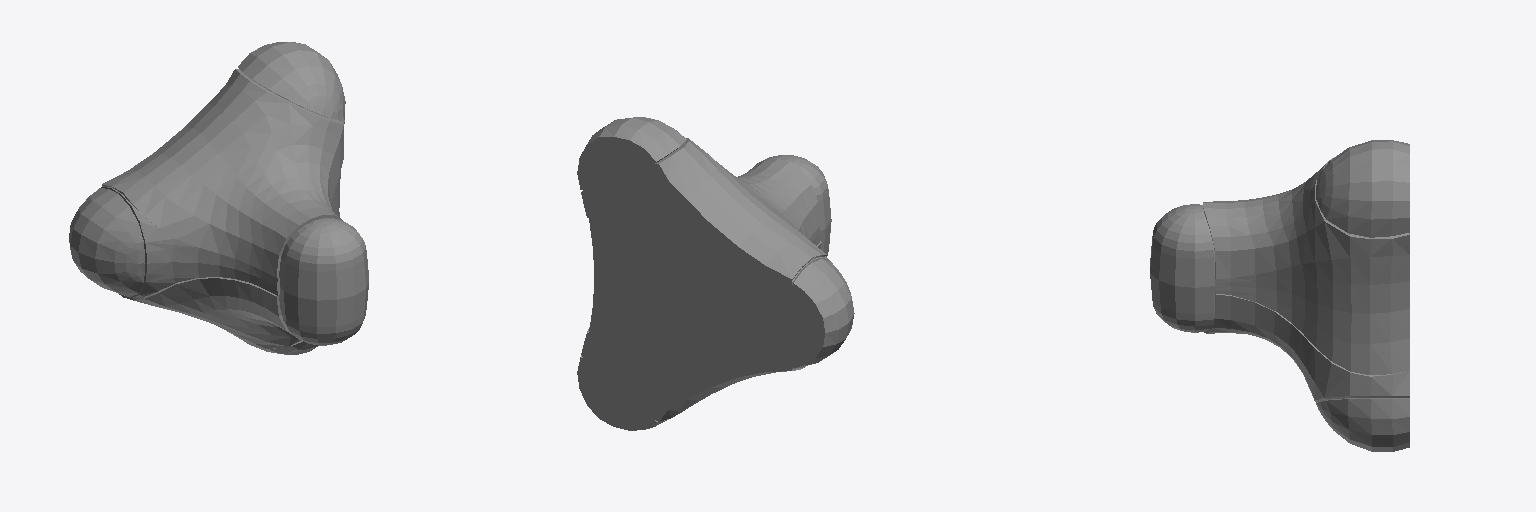
File: KneePitch.obj
The picture shows the model from 3 angles: view 1: azimuth 30°, elevation 25°; view 2: azimuth 150°, elevation 25°; view 3: azimuth 270°, elevation 25°; orthographic projection.
Parts seen in each view (by area): view 1: default; view 2: default; view 3: default.
Boxes of the visible parts, box(x1,y1,x2,y2) form: default: box(69, 42, 368, 354); default: box(577, 117, 854, 430); default: box(1150, 140, 1409, 451).
Bounding box in the file's own units: 0.4207 × 0.4673 × 0.366.